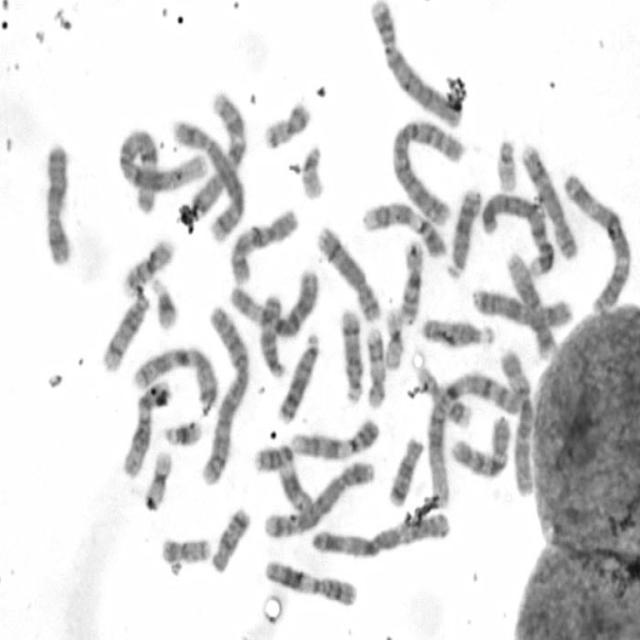A1: (416, 361, 538, 503), (116, 125, 208, 217)
A2: (196, 302, 251, 487), (388, 114, 467, 227)
A3: (562, 170, 633, 315), (306, 507, 451, 560)
B4: (367, 0, 465, 130), (479, 188, 556, 279)
B5: (170, 110, 245, 242), (261, 456, 376, 539)
C10: (225, 203, 300, 284), (445, 410, 513, 480)
C11: (261, 555, 359, 609), (251, 441, 314, 515)
C12: (502, 248, 556, 360), (119, 378, 171, 481)
C6: (225, 264, 320, 338), (498, 344, 536, 497)
C7: (192, 92, 247, 222), (129, 342, 220, 407)
C8: (518, 139, 579, 262), (314, 220, 382, 324)
C9: (358, 198, 448, 260), (286, 414, 381, 460)
D13: (274, 328, 321, 424), (444, 183, 484, 279)
D14: (98, 291, 151, 373), (337, 305, 365, 405)
D15: (255, 291, 288, 379), (418, 313, 496, 349)
E16: (118, 235, 176, 297), (396, 235, 424, 326)
E17: (412, 362, 472, 430), (363, 322, 387, 411)
E18: (208, 503, 252, 575), (384, 433, 426, 508)
F19: (141, 446, 174, 510), (382, 304, 405, 371)
F20: (260, 96, 314, 150), (158, 532, 212, 566)
G21: (148, 273, 180, 332), (161, 416, 204, 448)
G22: (298, 142, 326, 200), (494, 134, 518, 192)
X: (468, 282, 574, 331), (38, 137, 76, 268)
